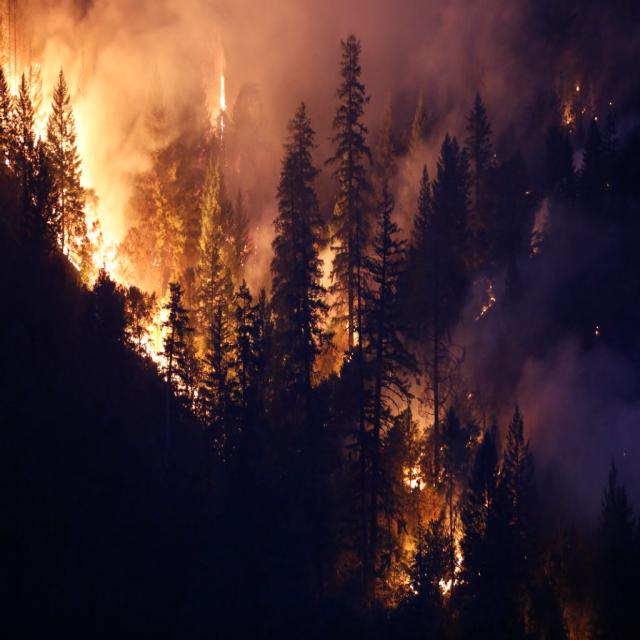fire: (368, 396, 488, 616), (102, 286, 240, 418)
